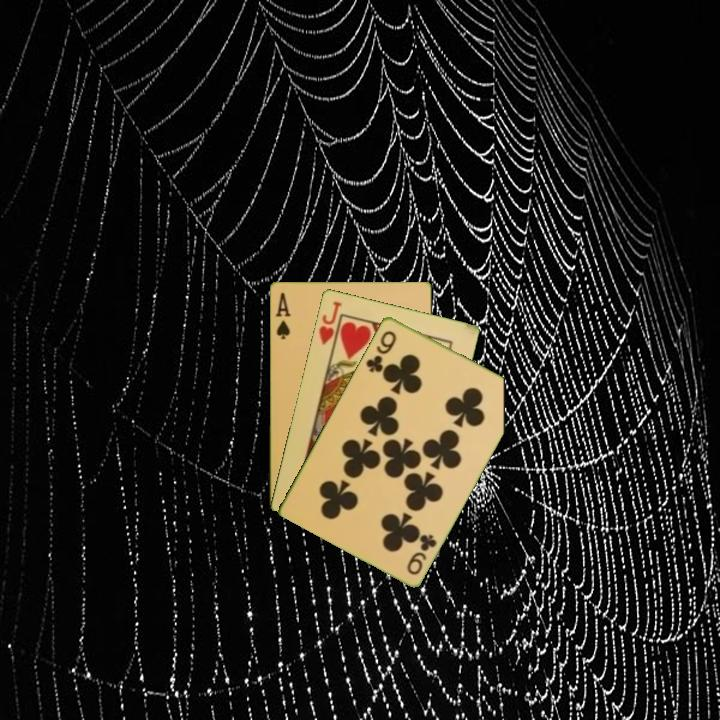9c: (362, 327, 399, 375), (403, 530, 440, 578)
As: (272, 288, 293, 342)
Jh: (315, 297, 344, 353)
